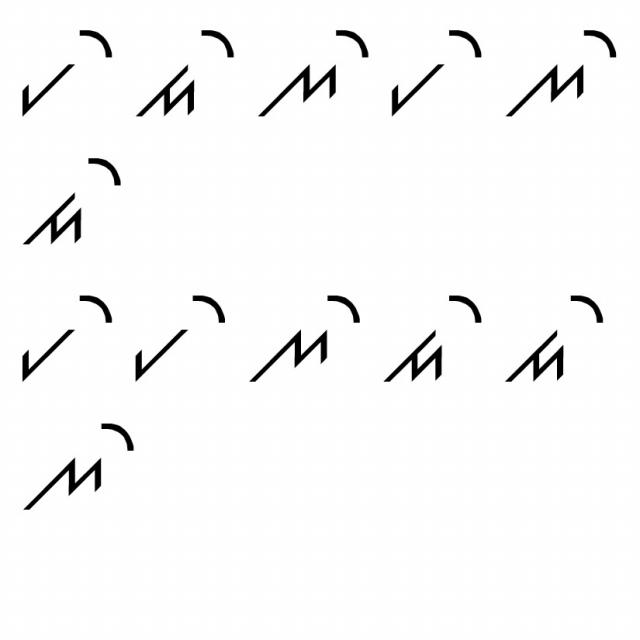day: (503, 286, 610, 396), (382, 281, 488, 391), (19, 146, 127, 250), (134, 23, 237, 121)
nay: (17, 414, 141, 526), (248, 284, 366, 389), (504, 23, 622, 124), (258, 25, 369, 124)
pay: (15, 286, 116, 386), (383, 26, 487, 121), (13, 23, 117, 116), (130, 285, 228, 381)
